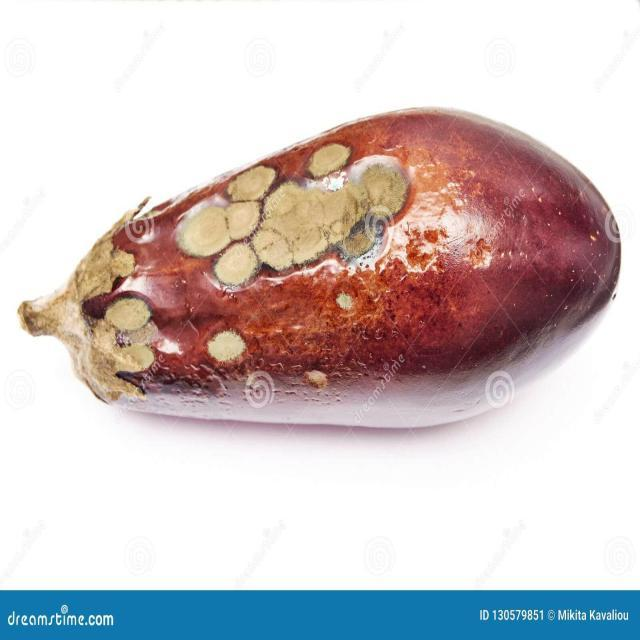eggplant: (16, 105, 622, 428)
